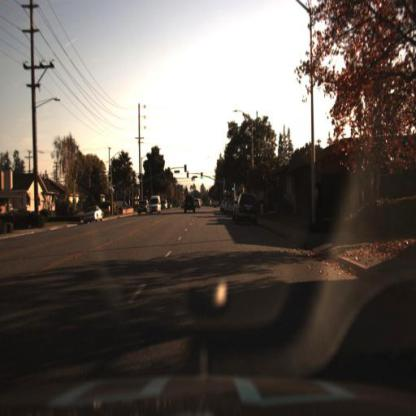car: (237, 192, 260, 232), (79, 204, 106, 227), (148, 194, 165, 217), (137, 193, 151, 218), (135, 198, 151, 218), (83, 207, 101, 224), (183, 194, 197, 214), (150, 194, 163, 215), (224, 200, 235, 218), (161, 196, 169, 216), (167, 198, 175, 212)
trafficLight-Green: (200, 171, 206, 182), (223, 187, 229, 197), (231, 184, 236, 195)
trafficLight-Red: (186, 169, 191, 180)
